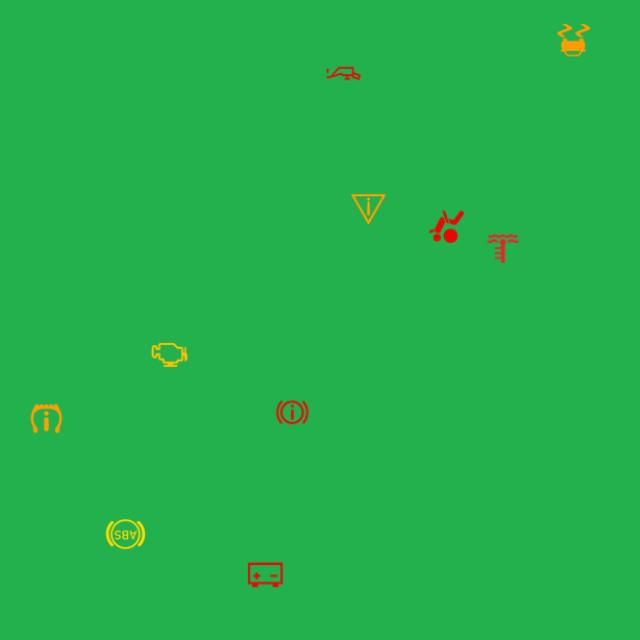Anti Lock Braking System: (104, 513, 147, 555)
Braking System Issue: (271, 391, 314, 433)
Charging System Issue: (244, 554, 287, 596)
Check Engine: (148, 334, 191, 376)
Electronic Stability Problem -ESP-: (553, 19, 595, 61)
Engine Overheating Warning Light: (482, 227, 524, 270)
Low Engine Oil Warning Light: (322, 52, 365, 95)
Low Tire Pressure Warning Light: (25, 397, 68, 440)
Master warning light: (347, 188, 390, 230)
SRS-Airbag: (425, 205, 468, 248)
